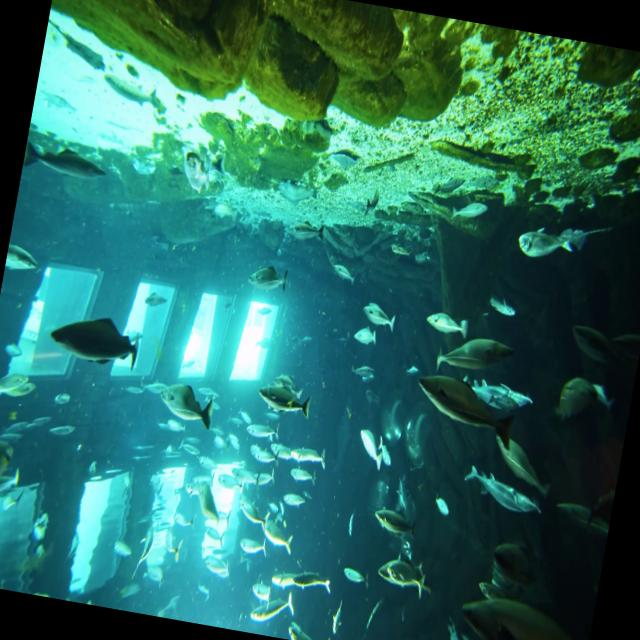fish: (404, 352, 540, 453), (36, 288, 148, 378), (451, 583, 594, 640), (458, 458, 550, 532), (19, 132, 114, 199), (151, 368, 229, 436), (433, 334, 510, 385), (511, 213, 578, 269), (252, 374, 320, 427), (383, 548, 442, 602), (251, 500, 302, 557), (344, 414, 392, 474), (351, 292, 402, 338), (245, 588, 297, 631), (422, 296, 470, 342), (5, 227, 50, 276), (485, 280, 524, 332), (286, 560, 336, 600), (0, 424, 18, 534), (289, 432, 333, 476), (227, 534, 269, 562), (282, 463, 323, 491), (373, 556, 394, 588)
